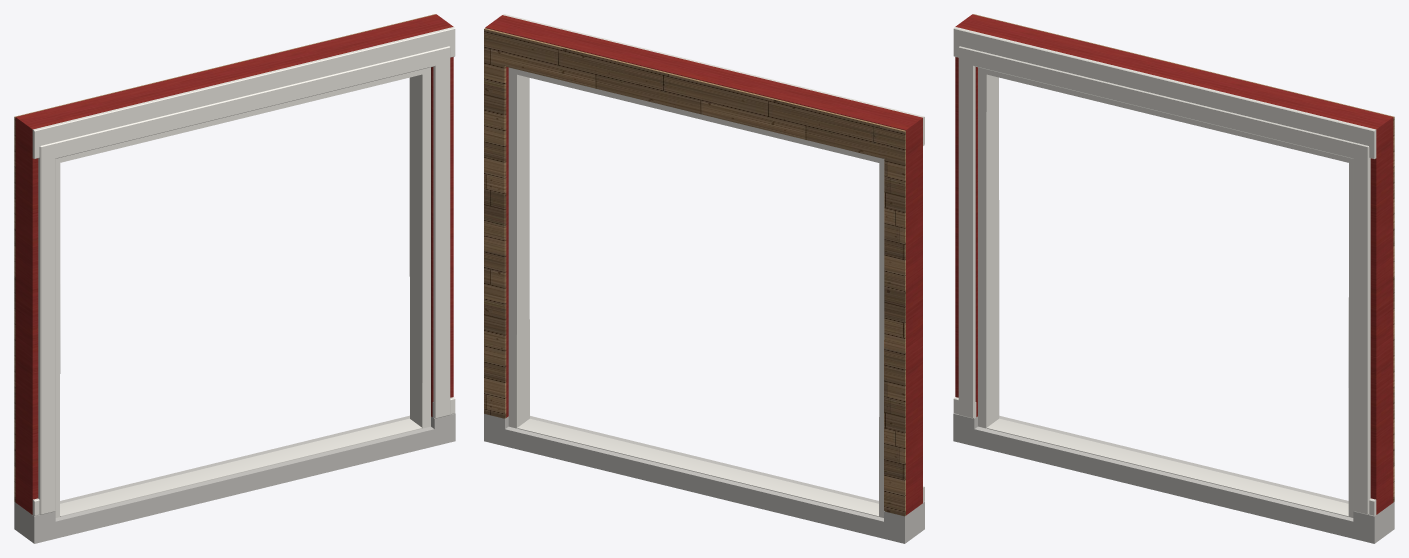
File: barn_wall_bigdoor.glb
The picture shows the model from 3 angles, left to right: view 1: azimuth 30°, elevation 25°; view 2: azimuth 150°, elevation 25°; view 3: azimuth 330°, elevation 25°; orthographic projection.
Parts seen in each view (by area): view 1: barn_wall_bigdoor_trim, barn_wall_bigdoor_barn, barn_wall_bigdoor_frame, barn_wall_bigdoor_concrete, barn_wall_bigdoor_planks; view 2: barn_wall_bigdoor_planks, barn_wall_bigdoor_frame, barn_wall_bigdoor_barn, barn_wall_bigdoor_concrete, barn_wall_bigdoor_trim; view 3: barn_wall_bigdoor_trim, barn_wall_bigdoor_barn, barn_wall_bigdoor_frame, barn_wall_bigdoor_concrete, barn_wall_bigdoor_planks.
Boxes of the visible parts, x1,y1,x2,y2 form: barn_wall_bigdoor_trim: [32, 27, 455, 515]; barn_wall_bigdoor_barn: [15, 14, 453, 514]; barn_wall_bigdoor_frame: [55, 67, 430, 517]; barn_wall_bigdoor_concrete: [14, 413, 455, 543]; barn_wall_bigdoor_planks: [14, 14, 435, 502]; barn_wall_bigdoor_planks: [484, 28, 905, 516]; barn_wall_bigdoor_frame: [508, 67, 884, 517]; barn_wall_bigdoor_barn: [485, 15, 922, 515]; barn_wall_bigdoor_concrete: [484, 414, 924, 543]; barn_wall_bigdoor_trim: [503, 14, 924, 502]; barn_wall_bigdoor_trim: [953, 27, 1376, 515]; barn_wall_bigdoor_barn: [955, 14, 1393, 514]; barn_wall_bigdoor_frame: [978, 67, 1353, 517]; barn_wall_bigdoor_concrete: [953, 413, 1394, 543]; barn_wall_bigdoor_planks: [973, 14, 1394, 502].
Bounding box in the file's own units: 4 × 3.75 × 0.34.
5 materials, 2 textured.
